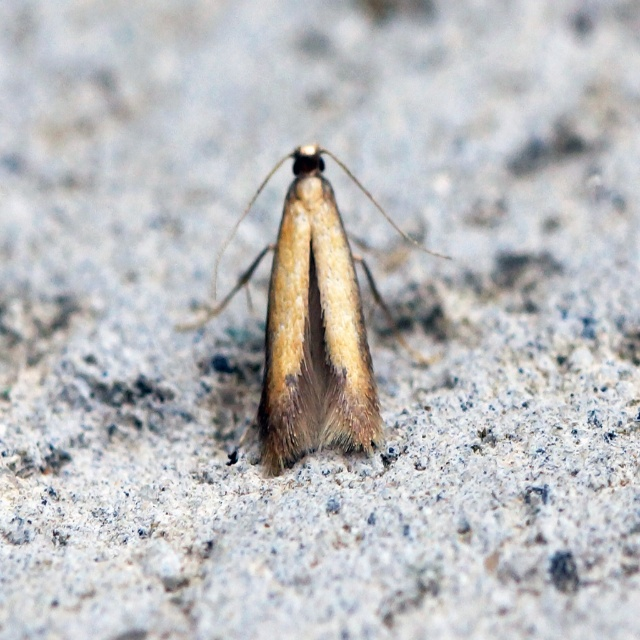Moths and butterflies: (182, 138, 457, 479)
